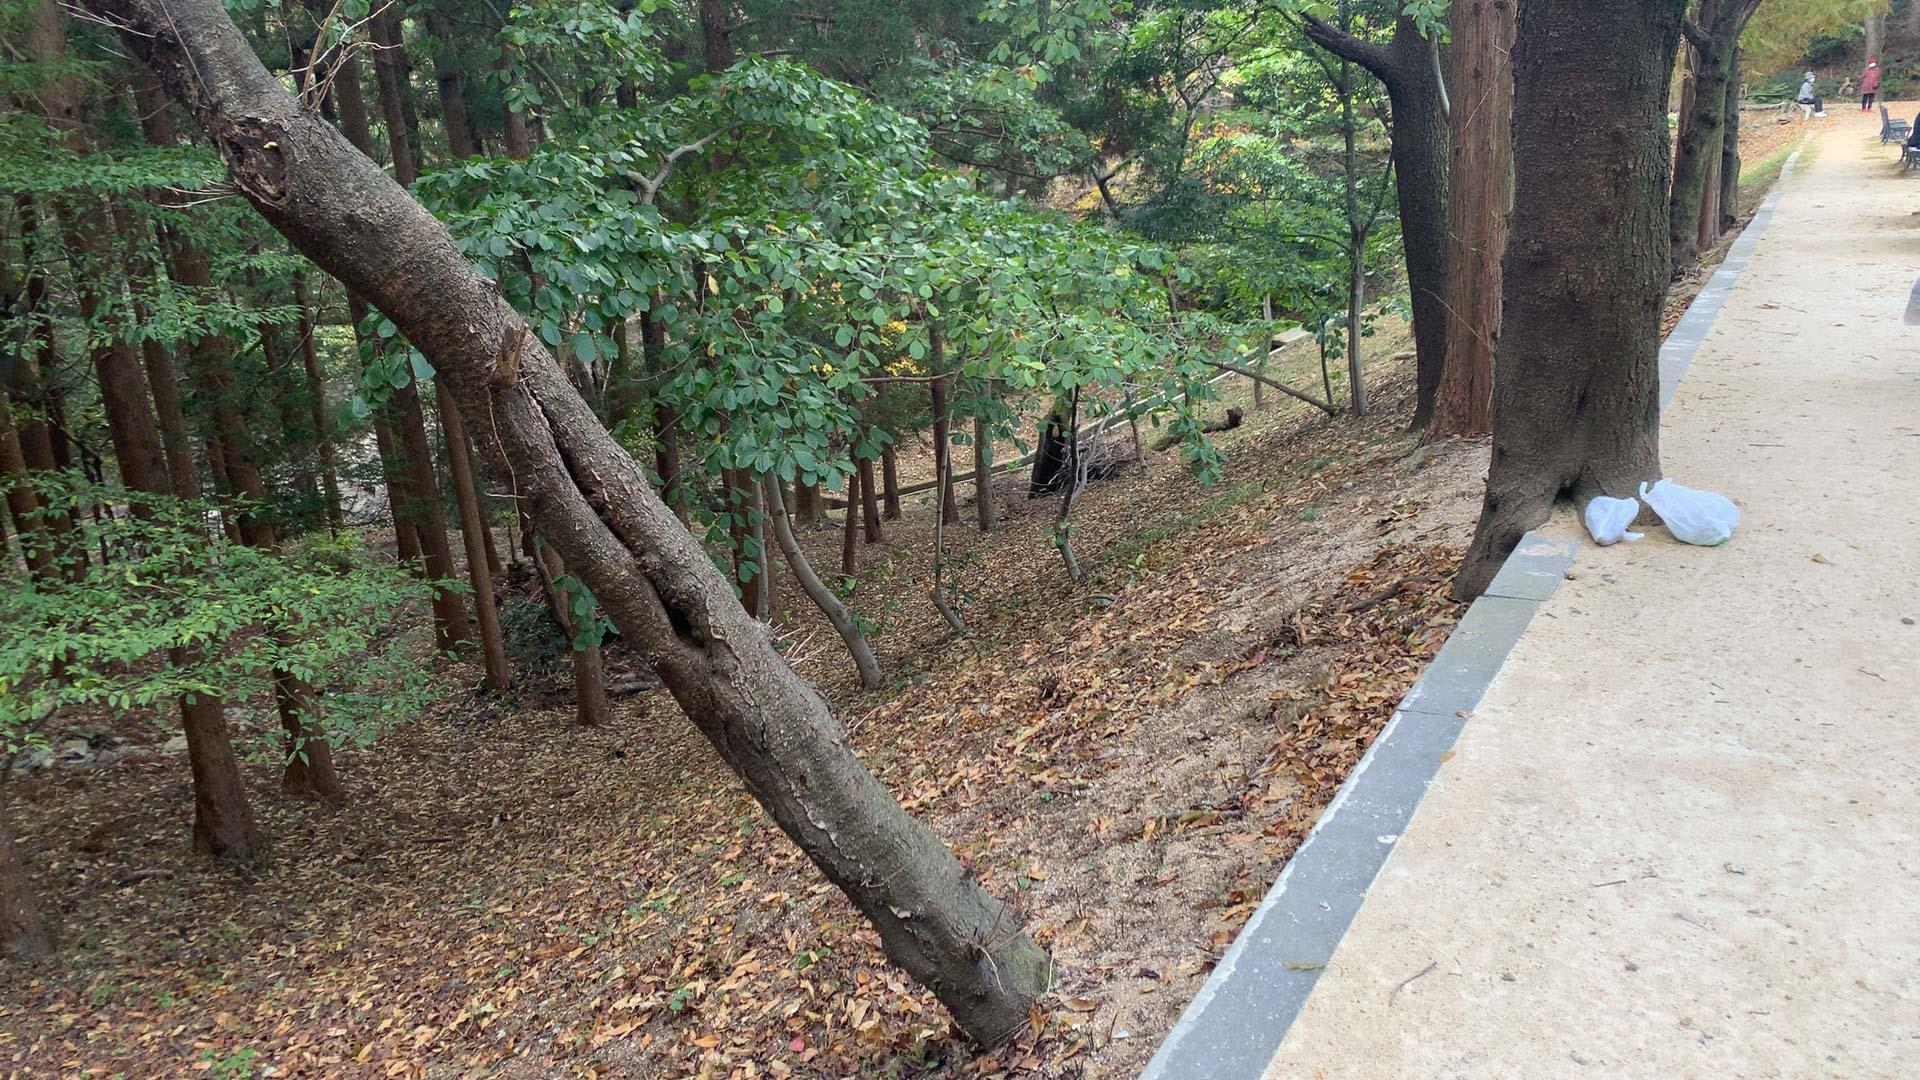white_bag: (1634, 475, 1743, 548), (1577, 492, 1646, 548)
